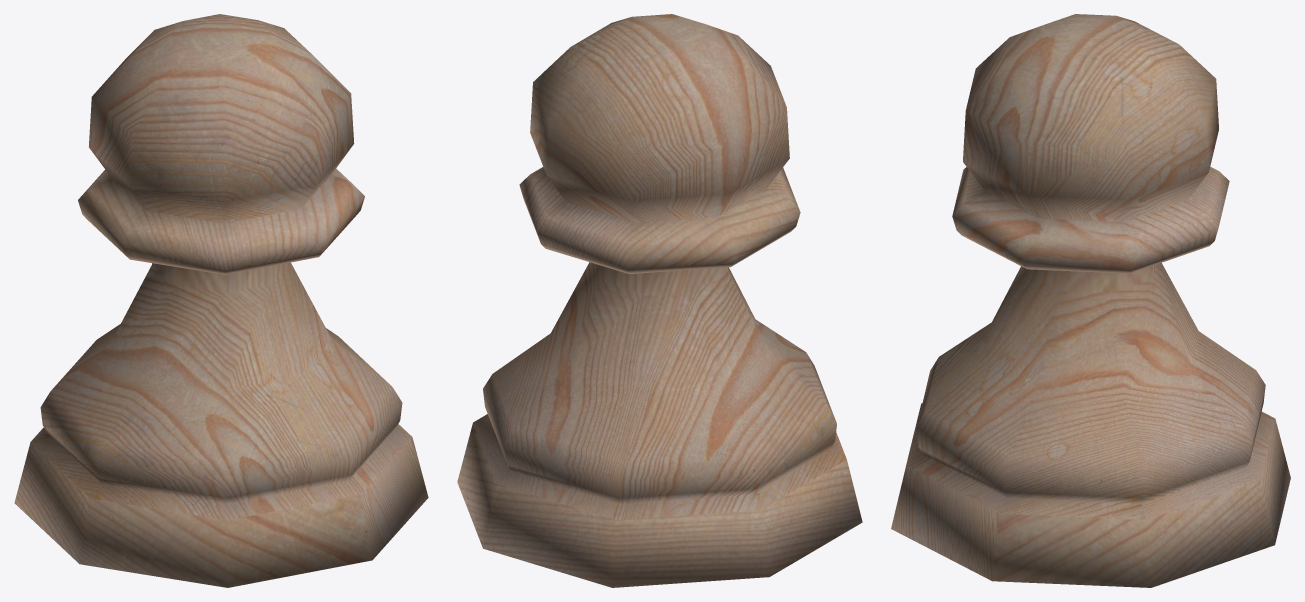
The model's file is WhitePawn.gltf.
3 renders of one model, left to right at view 1: azimuth 30°, elevation 25°; view 2: azimuth 150°, elevation 25°; view 3: azimuth 270°, elevation 25°, orthographic.
Parts seen in each view (by area): view 1: Object_6; view 2: Object_6; view 3: Object_6.
Part boxes in pixels (left/top/right/bottom): Object_6: left=14, top=14, right=428, bottom=587; Object_6: left=457, top=14, right=862, bottom=587; Object_6: left=891, top=14, right=1290, bottom=587.
Size of the model in its own units: 0.0268 by 0.0349 by 0.0268.
1 material, 1 textured.
